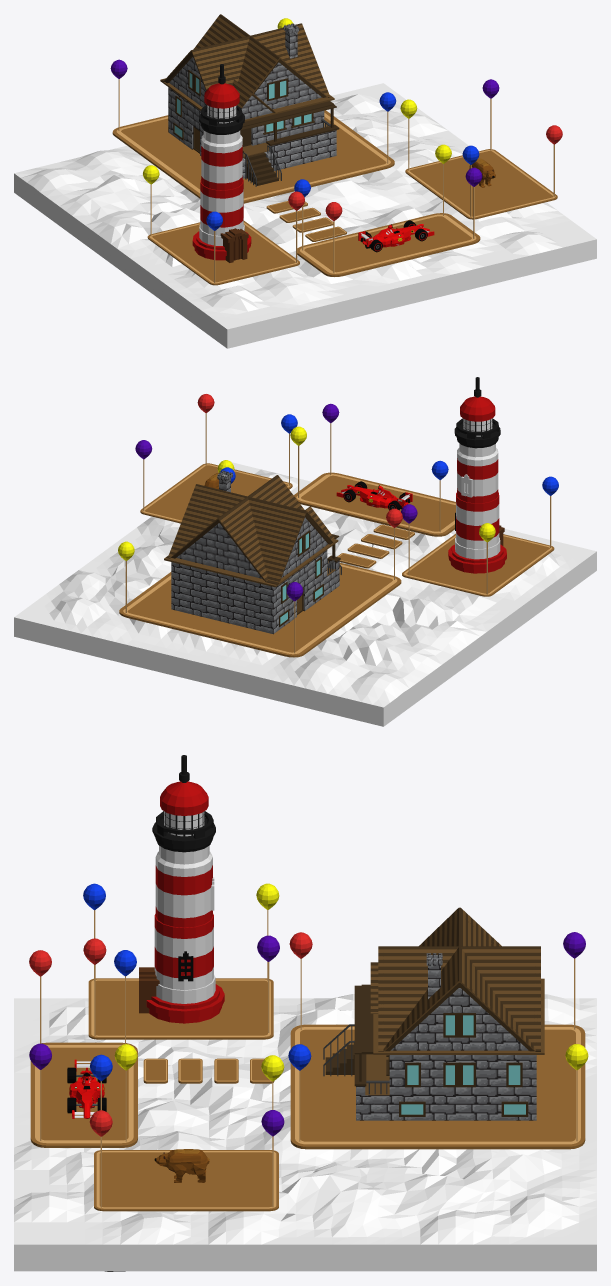
The picture shows the model from 3 angles, top to bottom: view 1: azimuth 30°, elevation 25°; view 2: azimuth 150°, elevation 25°; view 3: azimuth 270°, elevation 25°; orthographic projection. The views are drawn at different scales.
Visible parts, largest first — view 1: Cube.013, Cube.586, OBJRANDOM_LIGHTHOUSE, VEHICLES_FORMULA_1; view 2: Cube.013, Cube.586, OBJRANDOM_LIGHTHOUSE, VEHICLES_FORMULA_1; view 3: Cube.013, Cube.586, OBJRANDOM_LIGHTHOUSE, VEHICLES_FORMULA_1, ANIMAL_OSO.
Part boxes in pixels (box(x1,y1,x2,y2)): Cube.013: box(14, 18, 596, 348); Cube.586: box(160, 14, 339, 186); OBJRANDOM_LIGHTHOUSE: box(192, 64, 251, 262); VEHICLES_FORMULA_1: box(358, 220, 434, 252); Cube.013: box(14, 394, 596, 726); Cube.586: box(164, 470, 341, 634); OBJRANDOM_LIGHTHOUSE: box(448, 377, 506, 573); VEHICLES_FORMULA_1: box(336, 481, 412, 510); Cube.013: box(14, 883, 596, 1271); Cube.586: box(323, 907, 544, 1120); OBJRANDOM_LIGHTHOUSE: box(139, 755, 224, 1023); VEHICLES_FORMULA_1: box(67, 1059, 106, 1118); ANIMAL_OSO: box(154, 1149, 209, 1182).
Bounding box in the file's own units: 4000 × 2374 × 4000.
35 materials, 2 textured.
